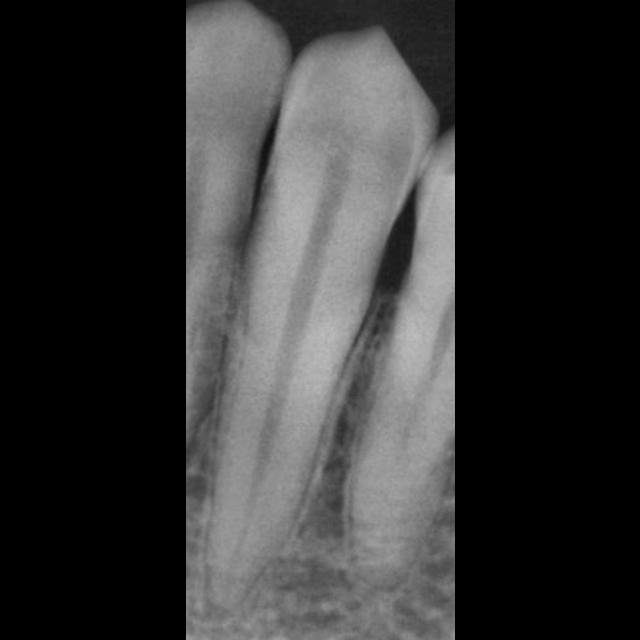tooth: (207, 33, 431, 603)
